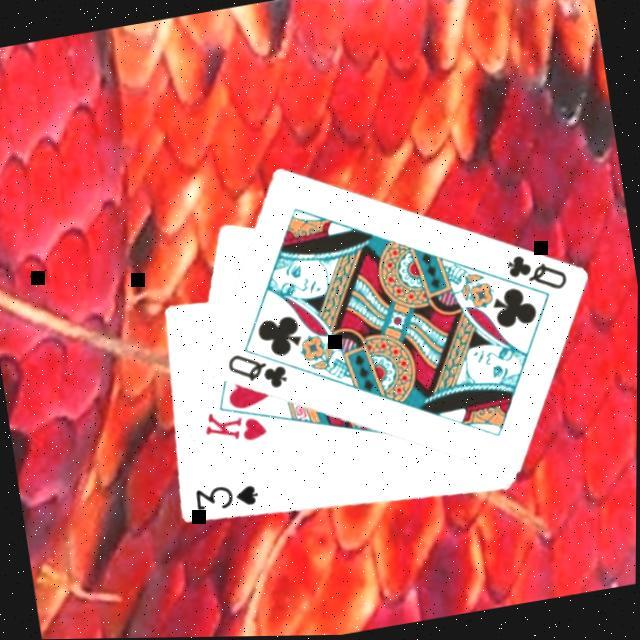3S: (192, 475, 265, 517)
KH: (200, 398, 274, 451)
QC: (503, 243, 574, 301), (223, 342, 294, 398)
